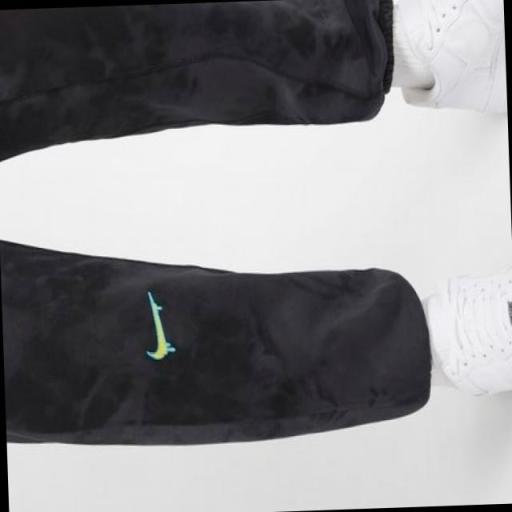Nike: (132, 282, 176, 379)
